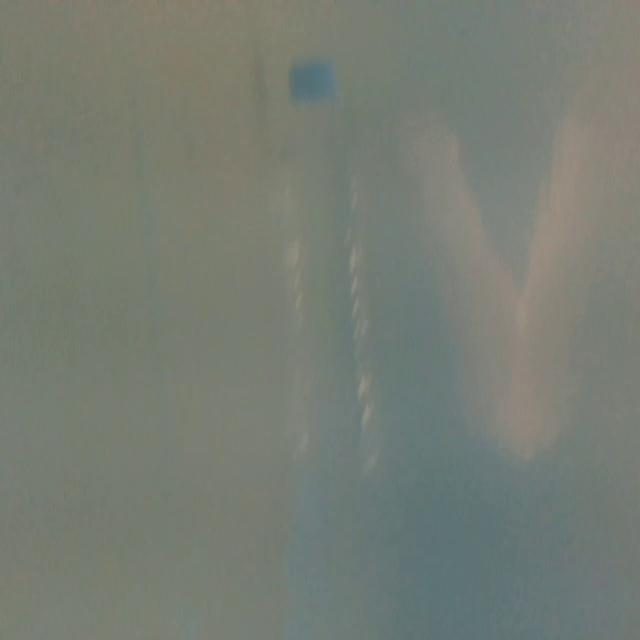plastic bags: (421, 126, 548, 470)
plastic bottle: (268, 57, 399, 497)
